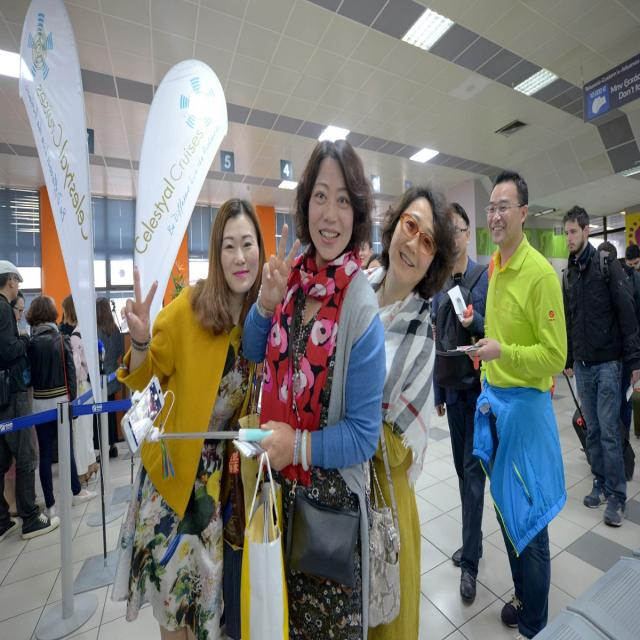body: (237, 137, 403, 639), (115, 196, 269, 639), (463, 168, 568, 639), (360, 182, 457, 640), (561, 203, 640, 529), (429, 201, 491, 604), (20, 293, 98, 519), (0, 258, 61, 543), (595, 240, 640, 483), (61, 295, 100, 488), (91, 295, 123, 463), (129, 385, 160, 449), (355, 235, 387, 269), (56, 296, 74, 336), (8, 288, 26, 324), (623, 243, 640, 271), (115, 303, 128, 330)
